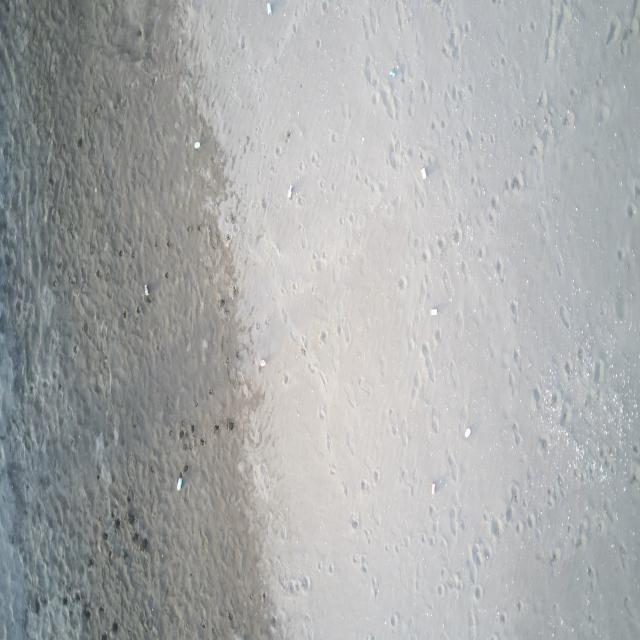Garbage: (176, 472, 183, 489), (420, 167, 427, 179), (287, 183, 292, 199), (388, 65, 395, 75), (143, 283, 148, 296), (464, 427, 470, 437), (430, 307, 436, 316), (267, 2, 271, 15), (193, 140, 199, 148), (432, 480, 435, 495), (259, 359, 264, 367)
